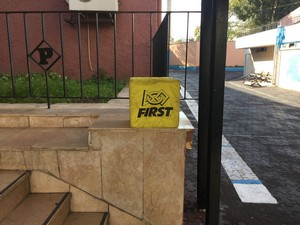cube: (128, 78, 178, 130)
